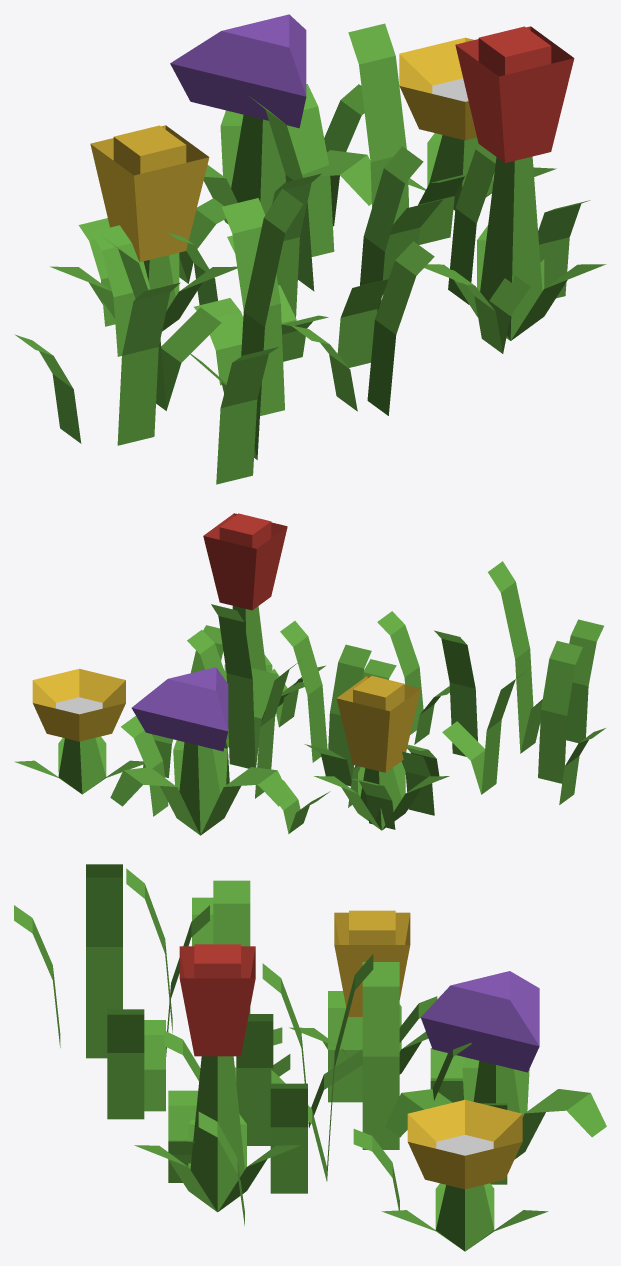
The model's file is sn_flowers.glb.
3 renders of one model, top to bottom at view 1: azimuth 30°, elevation 25°; view 2: azimuth 150°, elevation 25°; view 3: azimuth 270°, elevation 25°, orthographic. The views are drawn at different scales.
Parts seen in each view (by area): view 1: sn_flowers; view 2: sn_flowers; view 3: sn_flowers.
Part boxes in pixels (x1,y1,x2,y2): sn_flowers: (14, 14, 606, 484); sn_flowers: (14, 513, 605, 835); sn_flowers: (14, 864, 606, 1251).
Bounding box in the file's own units: 2.12 × 0.8775 × 1.92.
